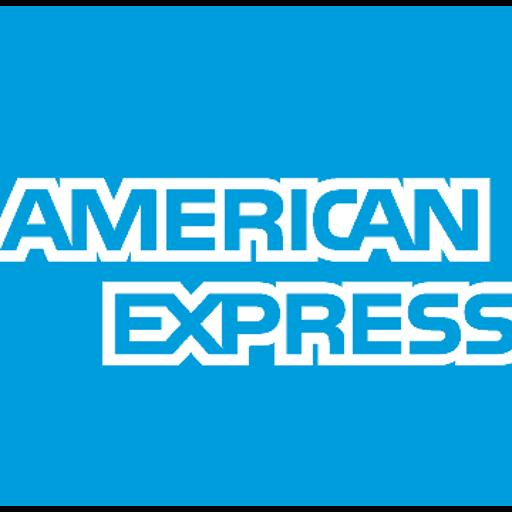American Express: (0, 6, 512, 506)
